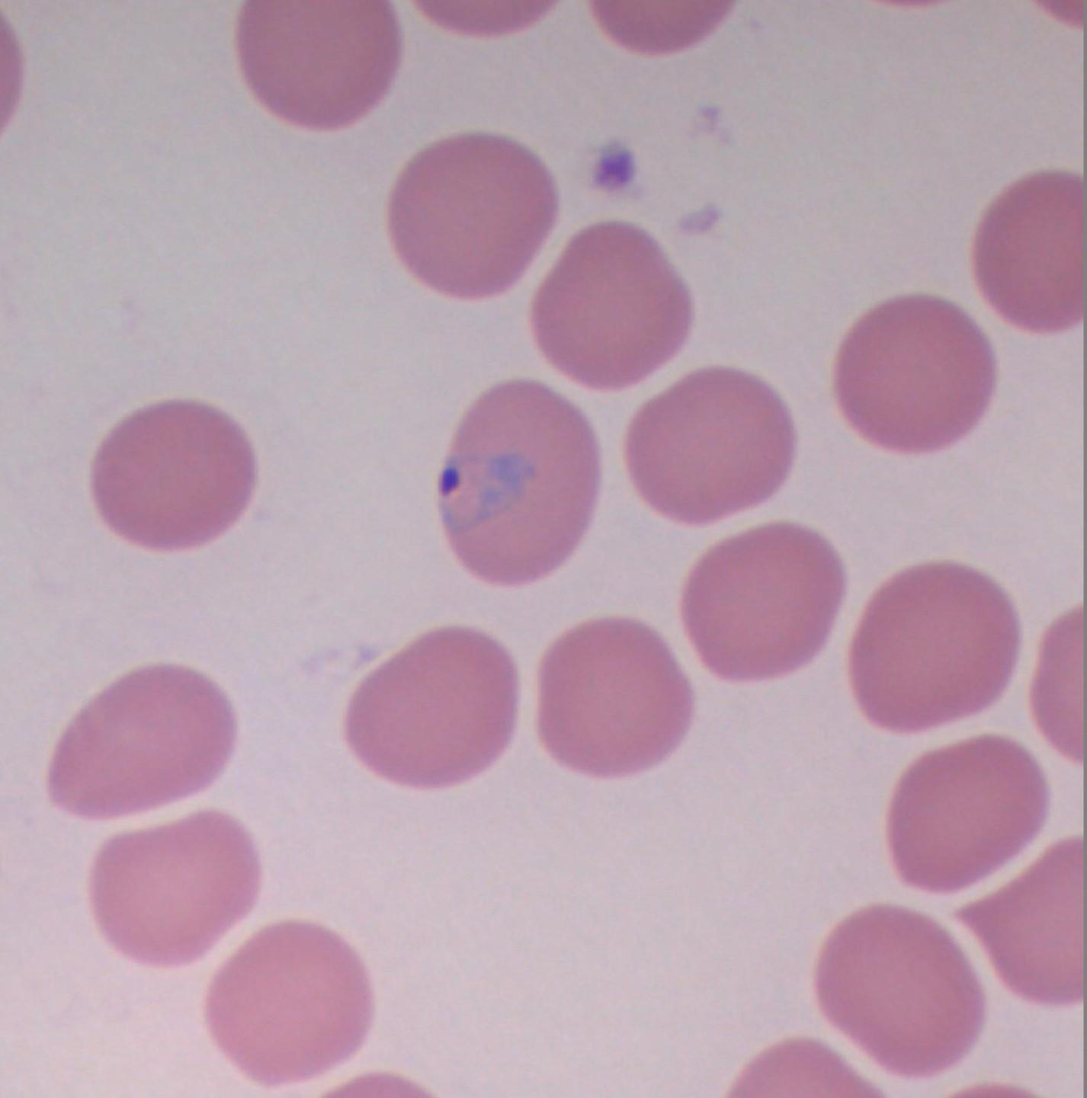Infected: (488, 509, 649, 718)
Uninfected: (526, 796, 703, 971), (103, 19, 274, 191), (67, 364, 239, 534), (394, 692, 549, 876), (851, 277, 1034, 432), (568, 308, 740, 469), (291, 574, 459, 733), (714, 12, 879, 173), (91, 643, 255, 803), (830, 130, 998, 284), (393, 320, 553, 481), (243, 418, 408, 573), (42, 204, 205, 360), (830, 546, 994, 699), (688, 971, 849, 1096), (10, 91, 124, 254), (5, 766, 117, 924)
